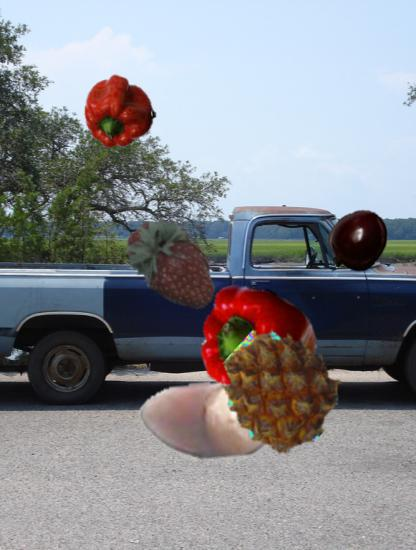Cherry: (326, 209, 391, 274)
Hazelnut: (138, 349, 281, 492)
Pepper: (193, 284, 328, 419), (83, 74, 158, 149)
Pineapple: (219, 330, 340, 451)
Strawberry: (121, 209, 228, 316)
